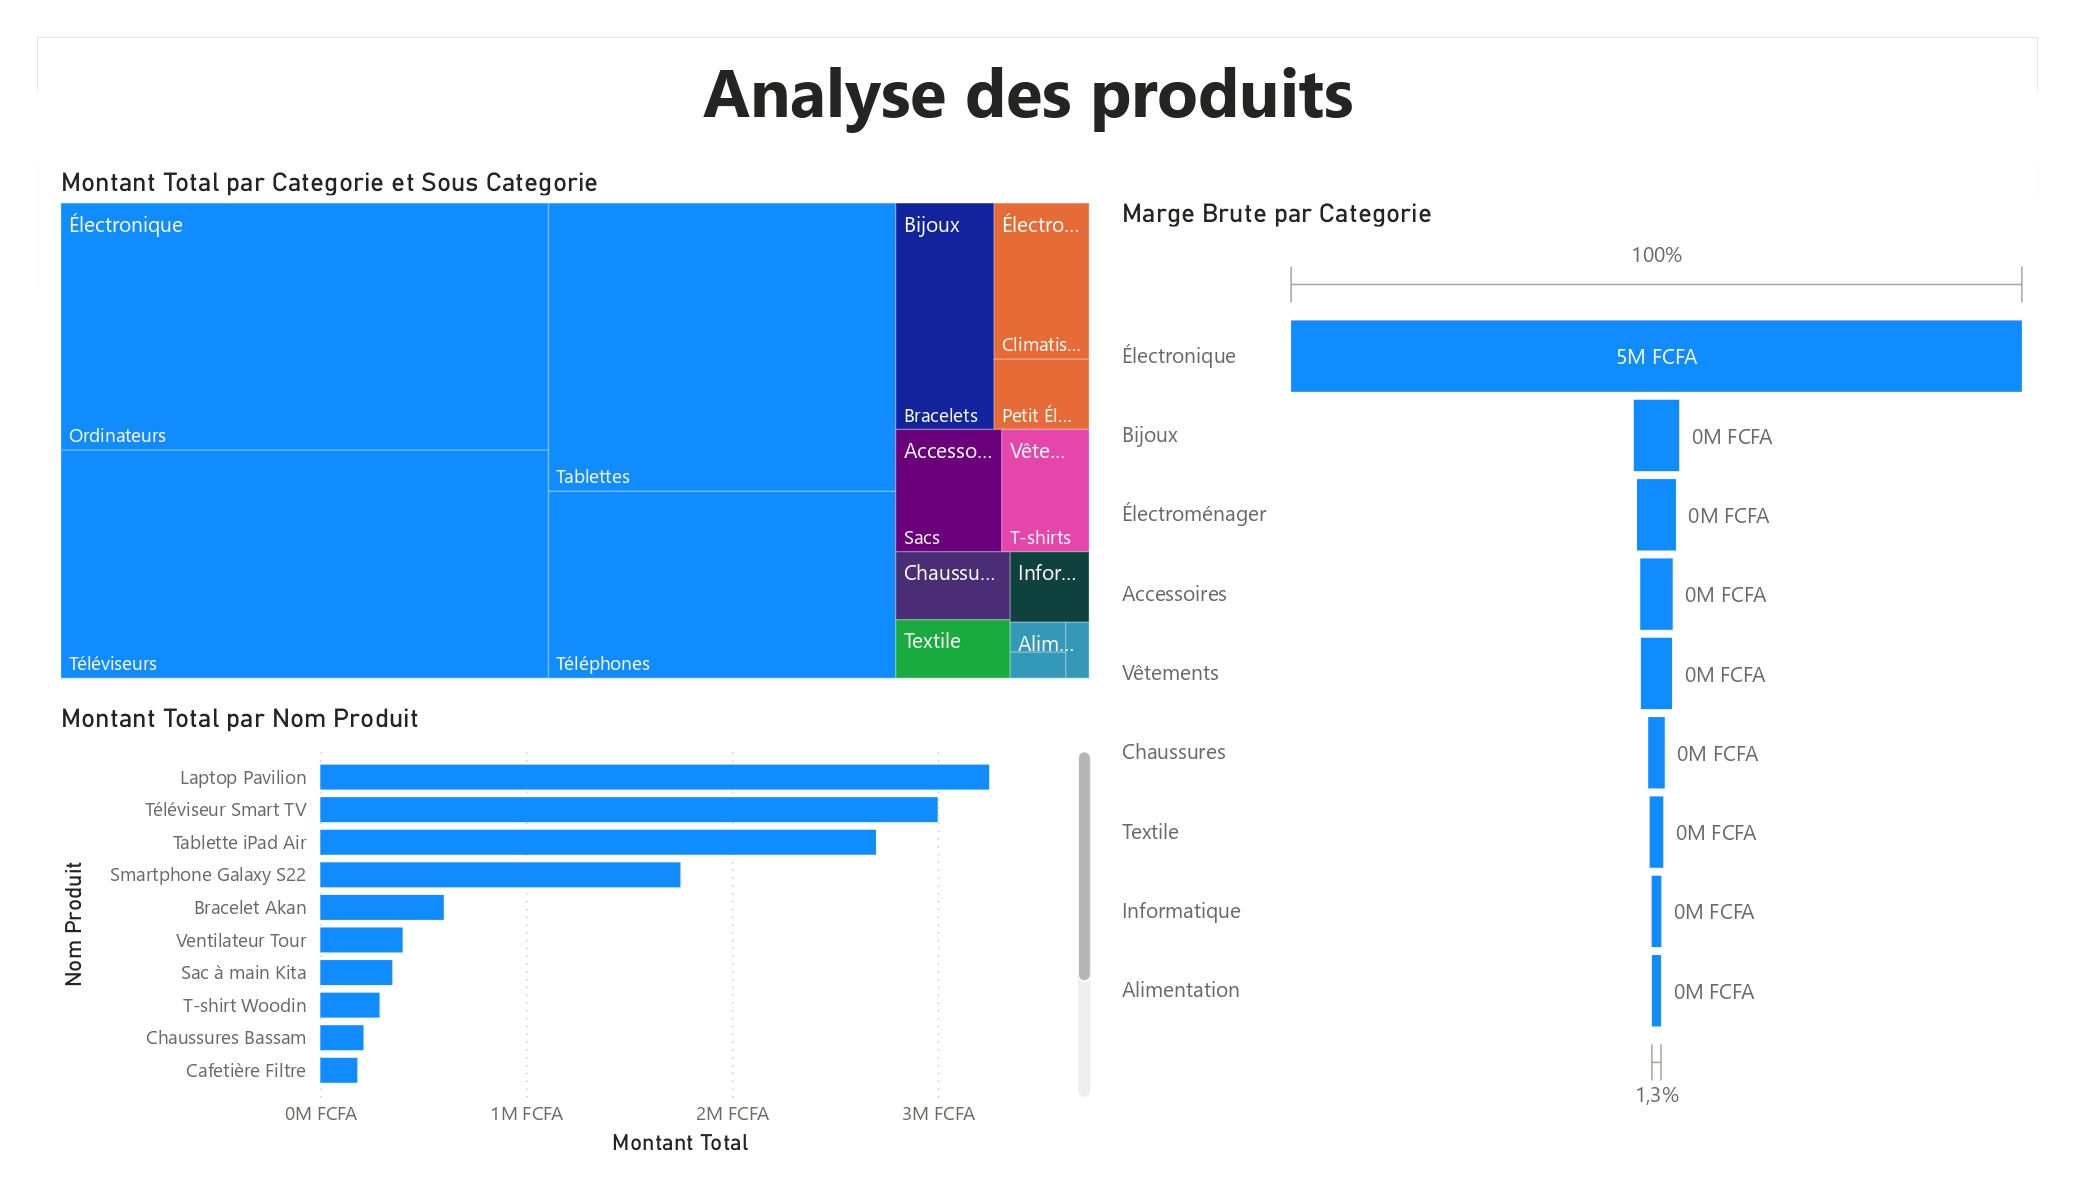

Layout of this report page (visuals, bound fields, positions):
{"tool":"powerbi","page":{"name":"Analyse des produits","canvas":[1280,720],"ordinal":2},"visuals":[{"type":"treemap","fields":{"Group":["DIM PRODUIT.Categorie"],"Details":["DIM PRODUIT.Sous Categorie"],"Values":["FAIT VENTES.Montant Total"]},"box":[10.5,82.2,667.7,333.1],"z":0},{"type":"clusteredBarChart","fields":{"Category":["DIM PRODUIT.Nom Produit"],"Y":["FAIT VENTES.Montant Total"]},"box":[10,425,669,295],"z":1000},{"type":"funnel","fields":{"Category":["DIM PRODUIT.Categorie"],"Y":["FAIT VENTES.Marge Brute"]},"box":[688.6,101.6,591.5,591.5],"z":2000},{"type":"textbox","box":[0,0,1280.2,82.2],"z":3000}]}

Visuals, with their boxes on the page's 1280x720 design canvas (x1, y1, x2, y2). These are canvas units, not pixel positions in the 2075x1200 screenshot, which may show the page scaled, cropped or inside an application window:
treemap - DIM PRODUIT.Categorie x DIM PRODUIT.Sous Categorie: x1=10 y1=82 x2=678 y2=415
clusteredBarChart - DIM PRODUIT.Nom Produit x FAIT VENTES.Montant Total: x1=10 y1=425 x2=679 y2=720
funnel - DIM PRODUIT.Categorie x FAIT VENTES.Marge Brute: x1=689 y1=102 x2=1280 y2=693
textbox: x1=0 y1=0 x2=1280 y2=82
